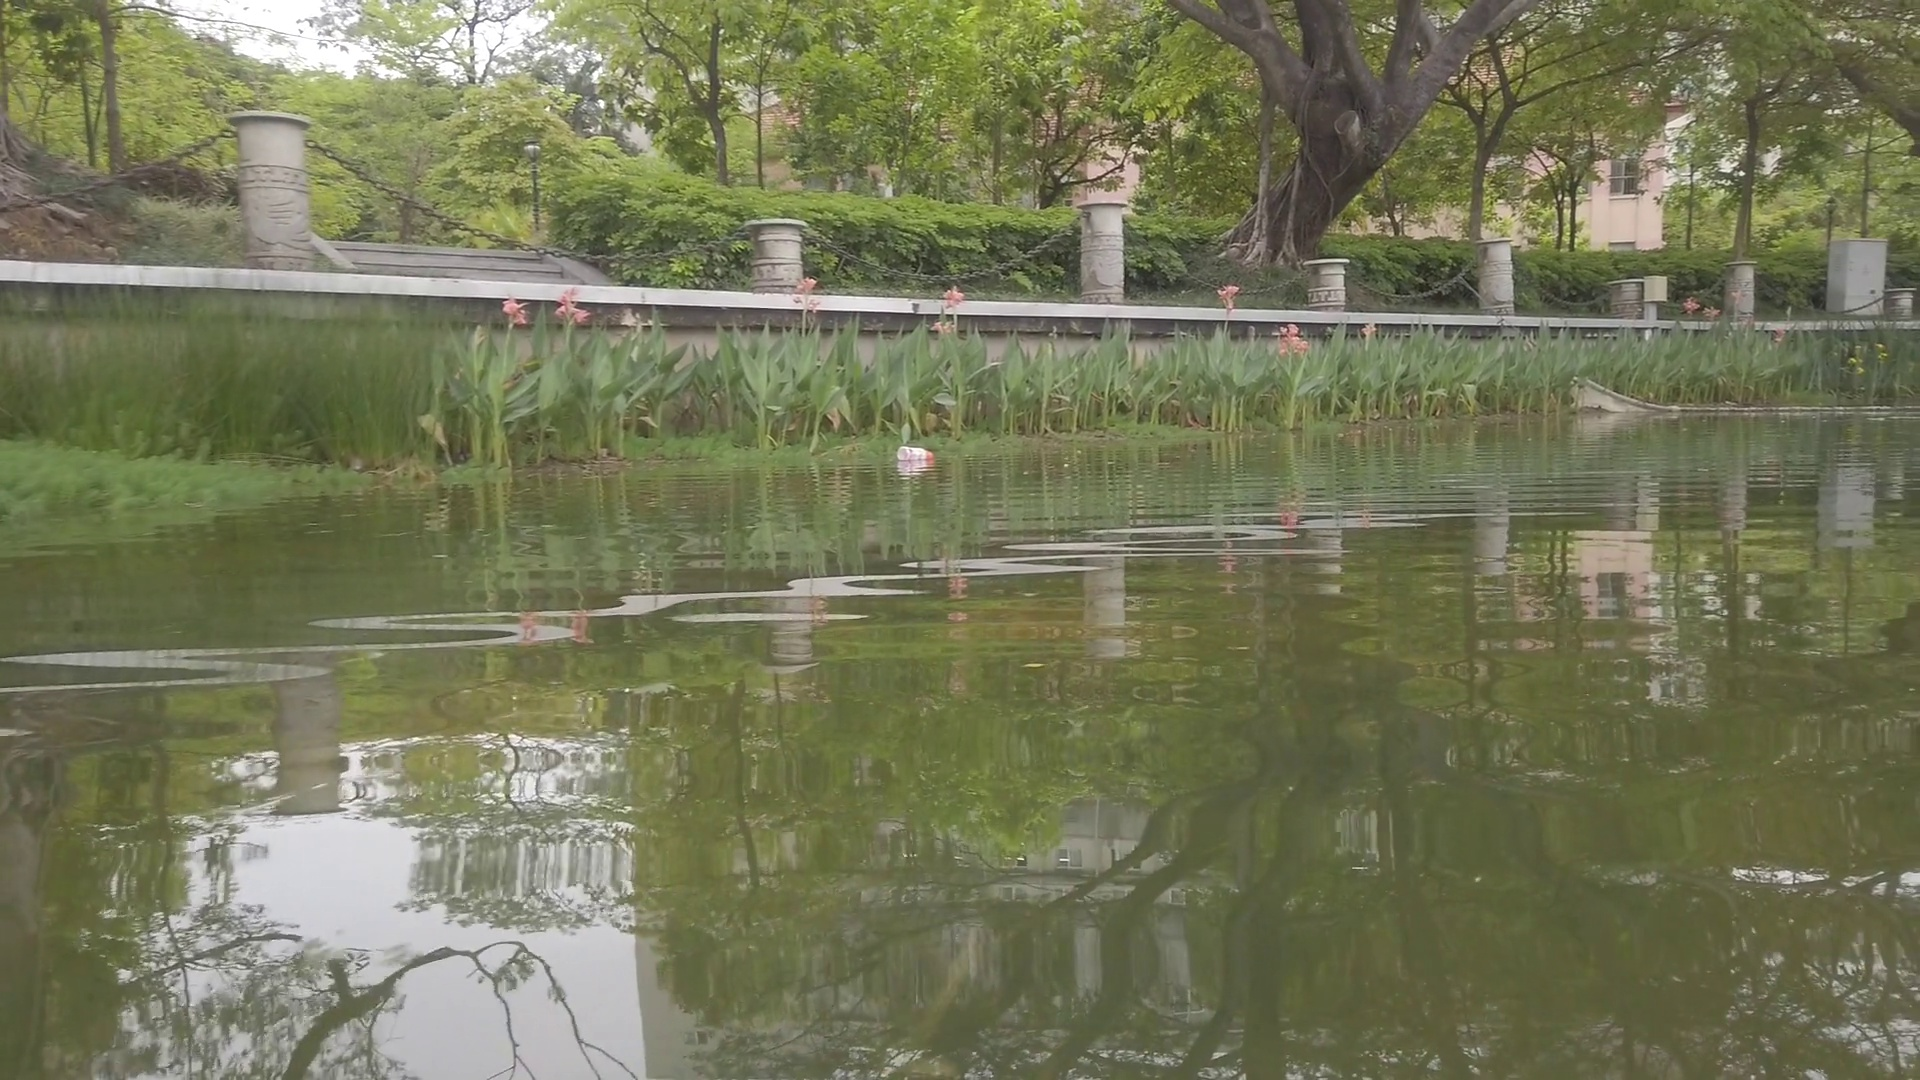bottle: (895, 447, 934, 460)
